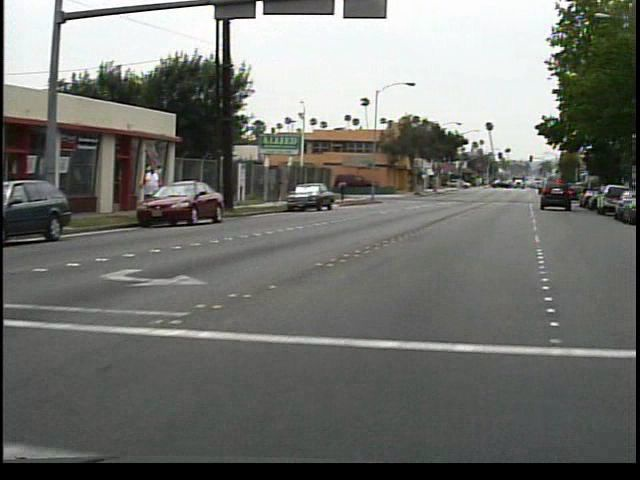person: (142, 158, 170, 220), (341, 175, 355, 204)
